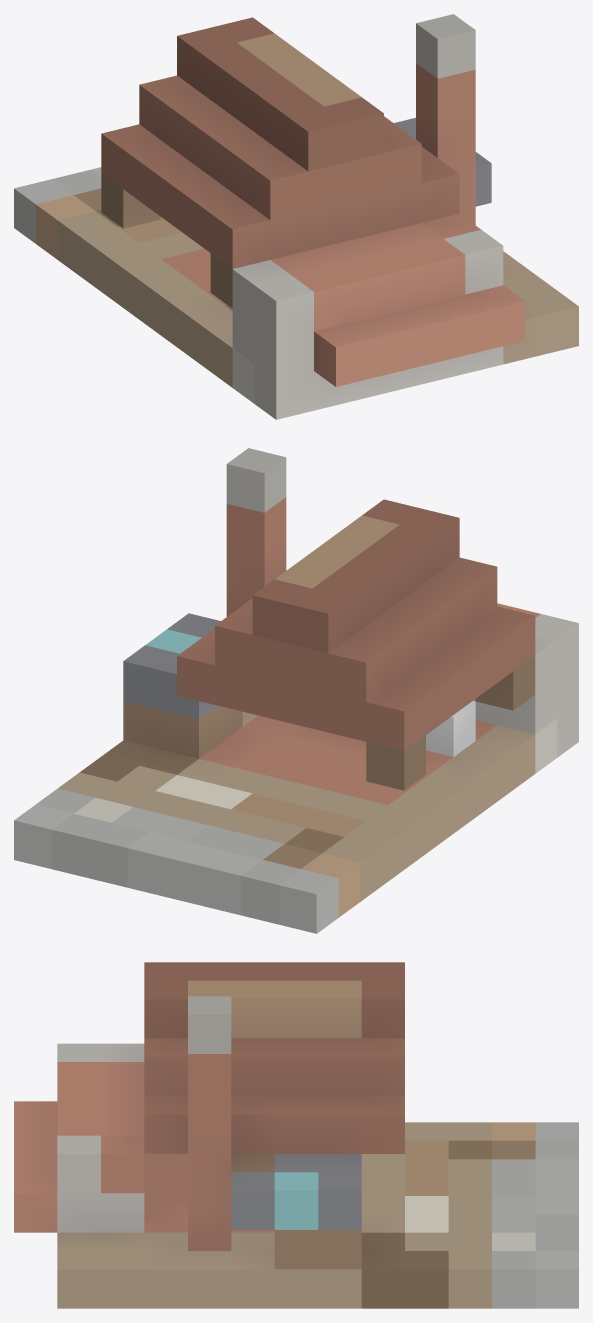
Rendered from salt_works.lite.glb.
3 renders of one model, top to bottom at view 1: azimuth 30°, elevation 25°; view 2: azimuth 150°, elevation 25°; view 3: azimuth 270°, elevation 25°, orthographic.
Visible parts, largest first — view 1: salt_works; view 2: salt_works; view 3: salt_works.
Boxes of the visible parts, left/top/right/bottom form: salt_works: left=14, top=14, right=578, bottom=419; salt_works: left=14, top=448, right=578, bottom=933; salt_works: left=14, top=962, right=578, bottom=1308.
Size of the model in its own units: 4 by 3.5 by 6.5.
